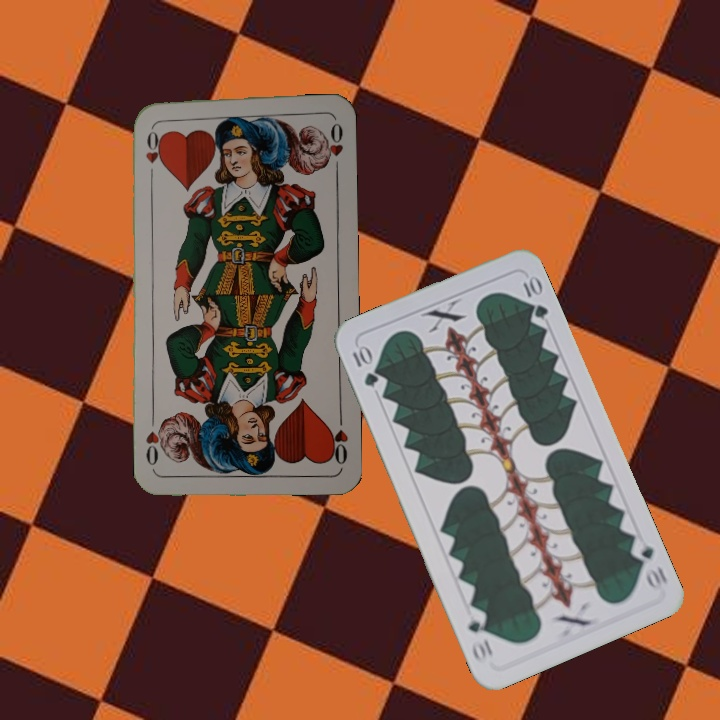G10: (627, 539, 670, 593), (348, 341, 381, 390)
HO: (326, 409, 351, 467), (141, 122, 162, 181)
